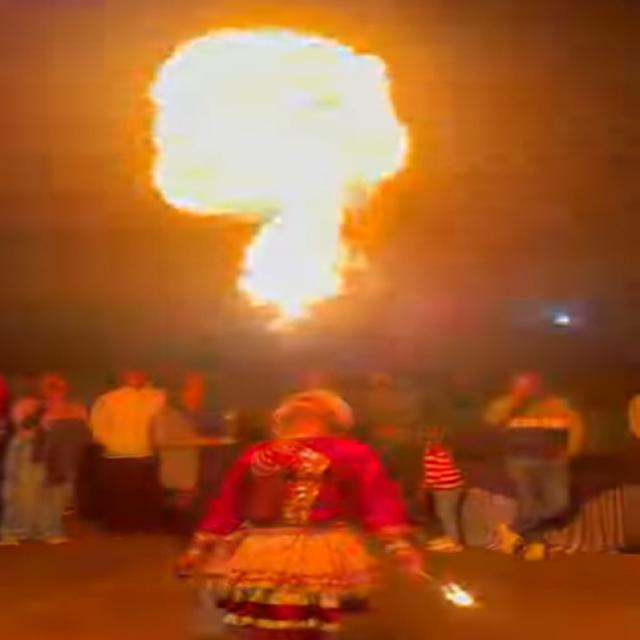fire: (141, 25, 411, 333)
